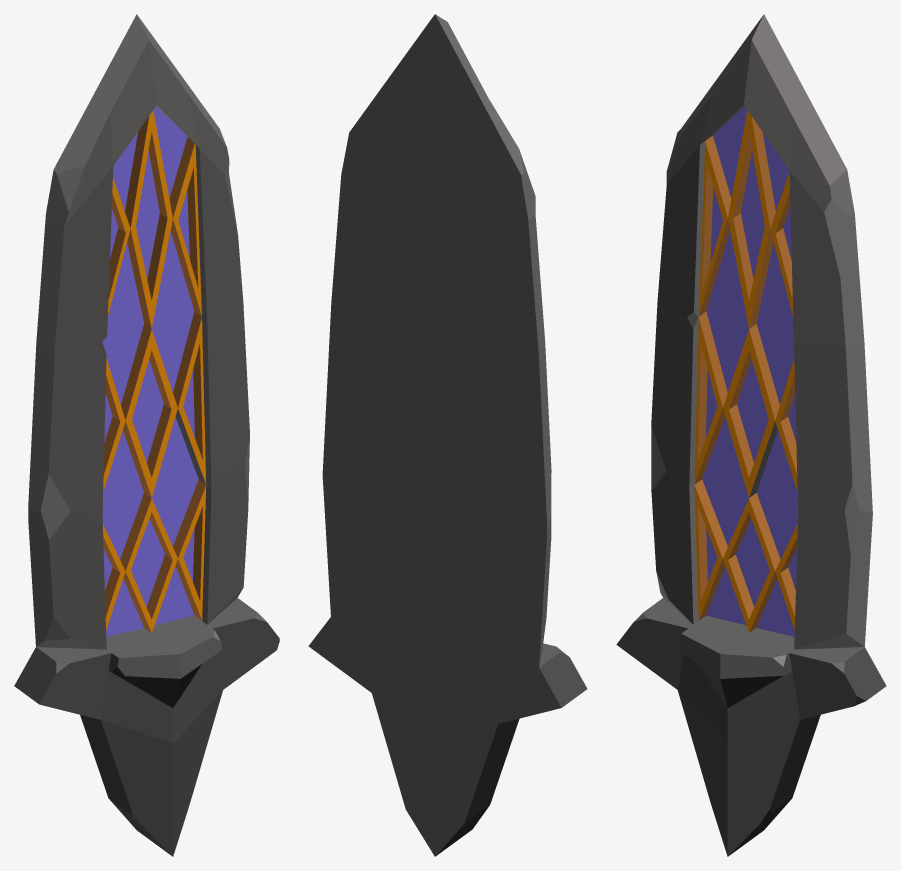
Rendered from Window_01.glb.
The picture shows the model from 3 angles, left to right: view 1: azimuth 30°, elevation 25°; view 2: azimuth 150°, elevation 25°; view 3: azimuth 330°, elevation 25°; orthographic projection. The views are drawn at different scales.
Parts seen in each view (by area): view 1: Window_01; view 2: Window_01; view 3: Window_01.
Boxes of the visible parts, x1,y1,x2,y2 form: Window_01: (14,14,279,856); Window_01: (308,14,587,856); Window_01: (616,14,886,856).
Size of what is drawn, in the model's own units: 0.4549 by 1.45 by 0.1412.
Materials: 1 (1 with a texture image).
